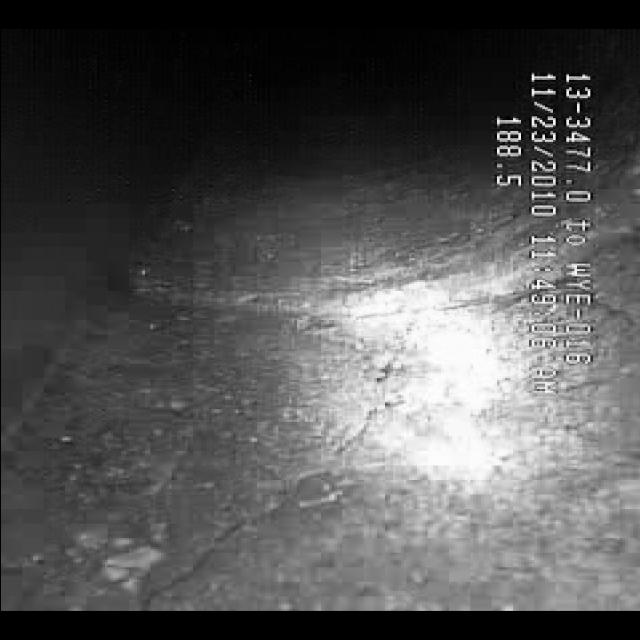Crack: (150, 462, 360, 590)
